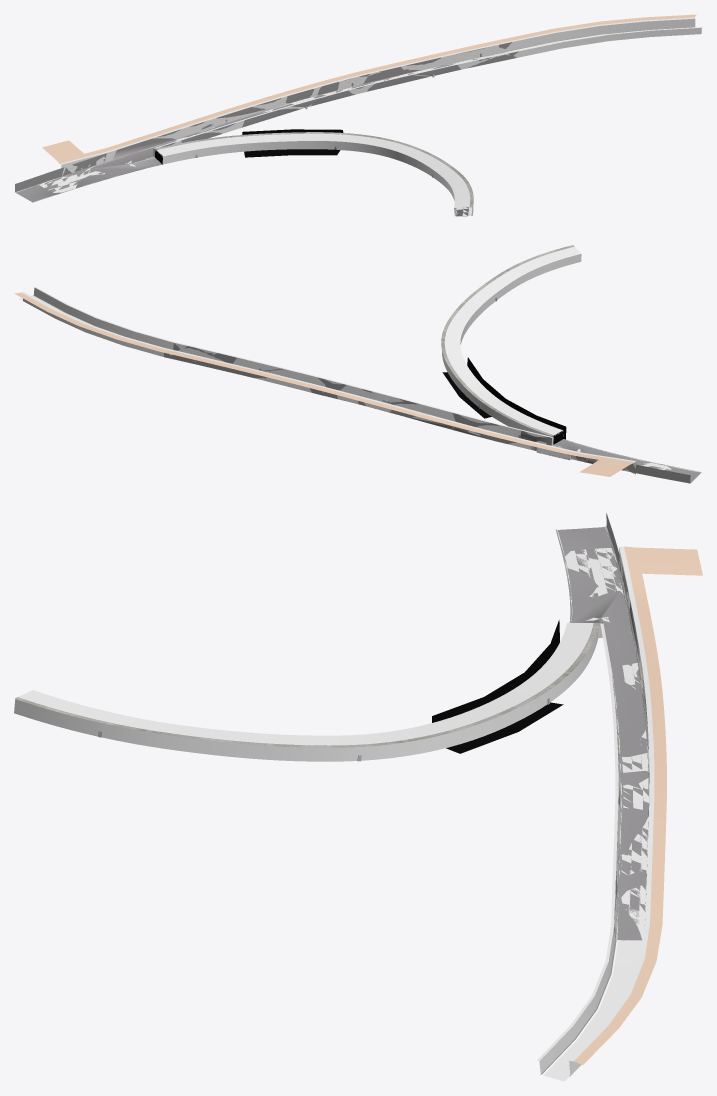
Rendered from tunnel_NW1b.dae.
3 views of the same model, one above another, from view 1: azimuth 30°, elevation 25°; view 2: azimuth 150°, elevation 25°; view 3: azimuth 270°, elevation 25° (orthographic). The views are drawn at different scales.
Parts seen in each view (by area): view 1: tunnel_NW1b_a5000, tunnel_NW1b_a2000, tunnel_NW1b_a3000; view 2: tunnel_NW1b_a5000, tunnel_NW1b_a2000, tunnel_NW1b_a3000; view 3: tunnel_NW1b_a5000, tunnel_NW1b_a2000, tunnel_NW1b_a3000.
Part boxes in pixels (x1=…): tunnel_NW1b_a5000: x1=14, y1=14, x2=702, y2=216; tunnel_NW1b_a2000: x1=15, y1=42, x2=518, y2=202; tunnel_NW1b_a3000: x1=15, y1=51, x2=509, y2=216; tunnel_NW1b_a5000: x1=14, y1=245, x2=702, y2=483; tunnel_NW1b_a2000: x1=164, y1=343, x2=700, y2=482; tunnel_NW1b_a3000: x1=364, y1=397, x2=691, y2=483; tunnel_NW1b_a5000: x1=14, y1=526, x2=702, y2=1081; tunnel_NW1b_a2000: x1=556, y1=517, x2=649, y2=940; tunnel_NW1b_a3000: x1=556, y1=513, x2=649, y2=940.
Size of the model in its own units: 511 by 260 by 30.44.
